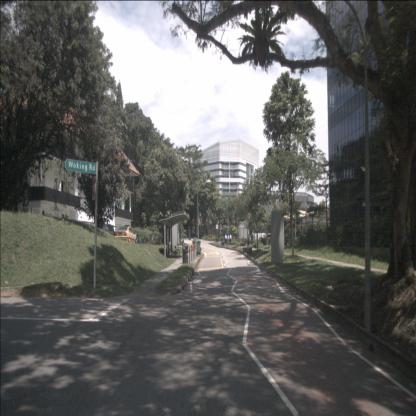human-pedestrian-adult: (224, 234, 228, 245), (247, 235, 250, 248), (229, 234, 232, 246)
vehicle-bicycle: (167, 245, 180, 258)
vehicle-car: (115, 226, 137, 244)
